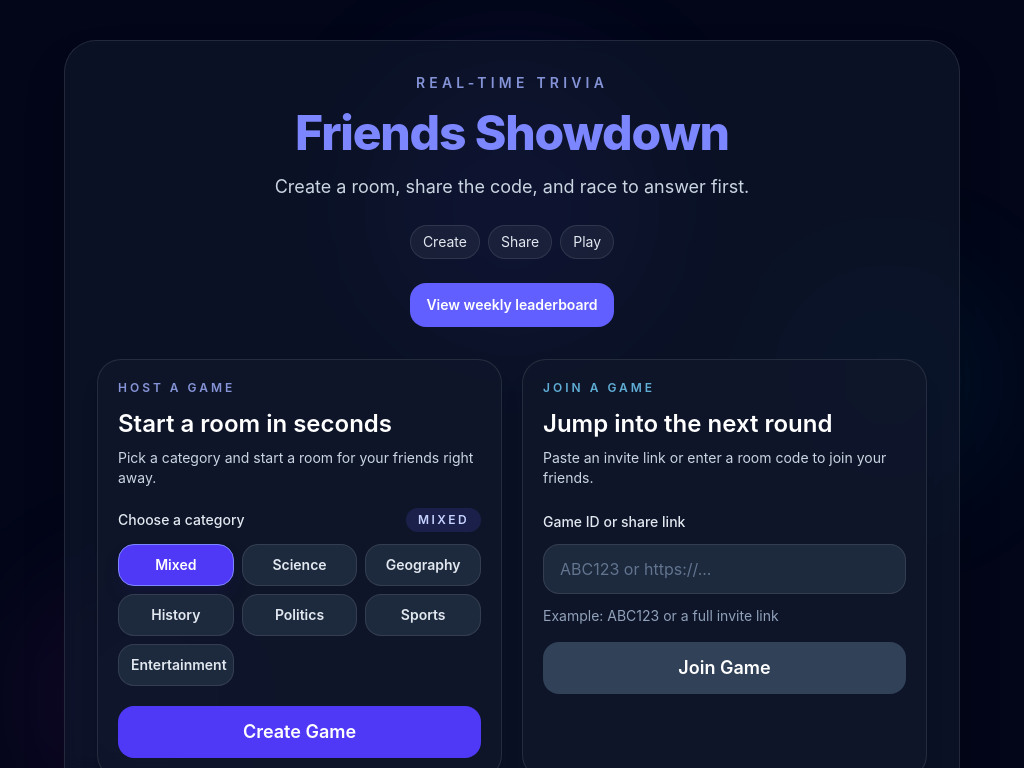
Scenario: HomeScreen › shows a validation error for invalid join input
Type "not a code" into the field labelled "Game ID or share link" at point(724, 569), box [543,544,906,594]
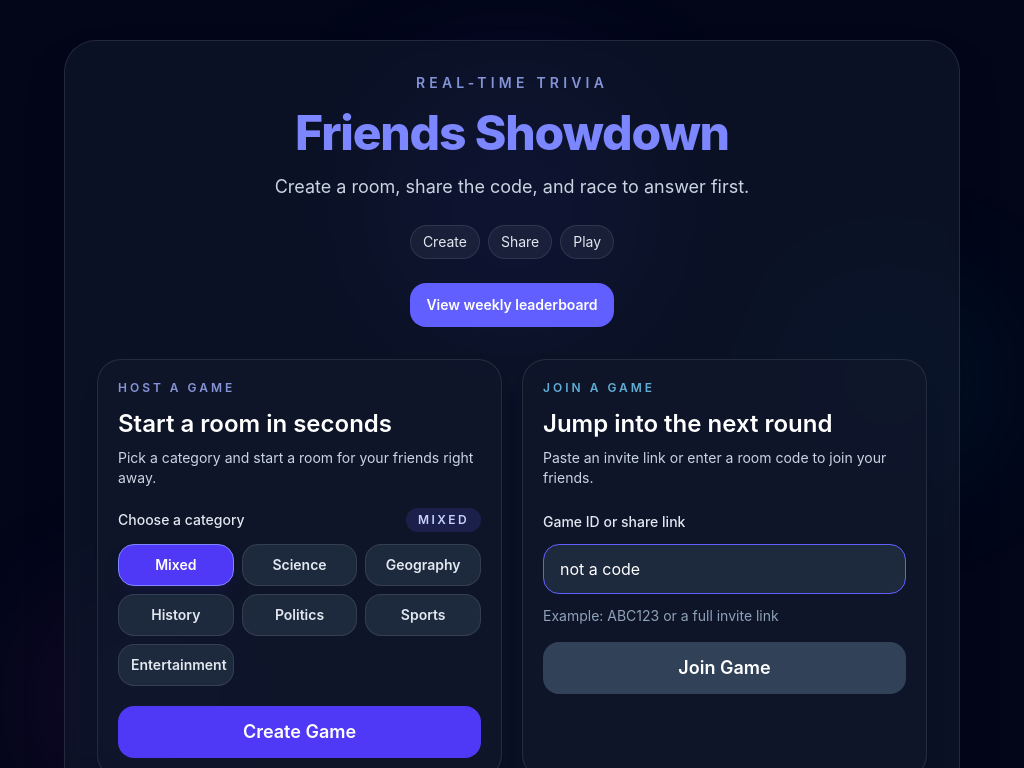
Click the button "Join Game" at point(724, 668), box [543,642,906,694]
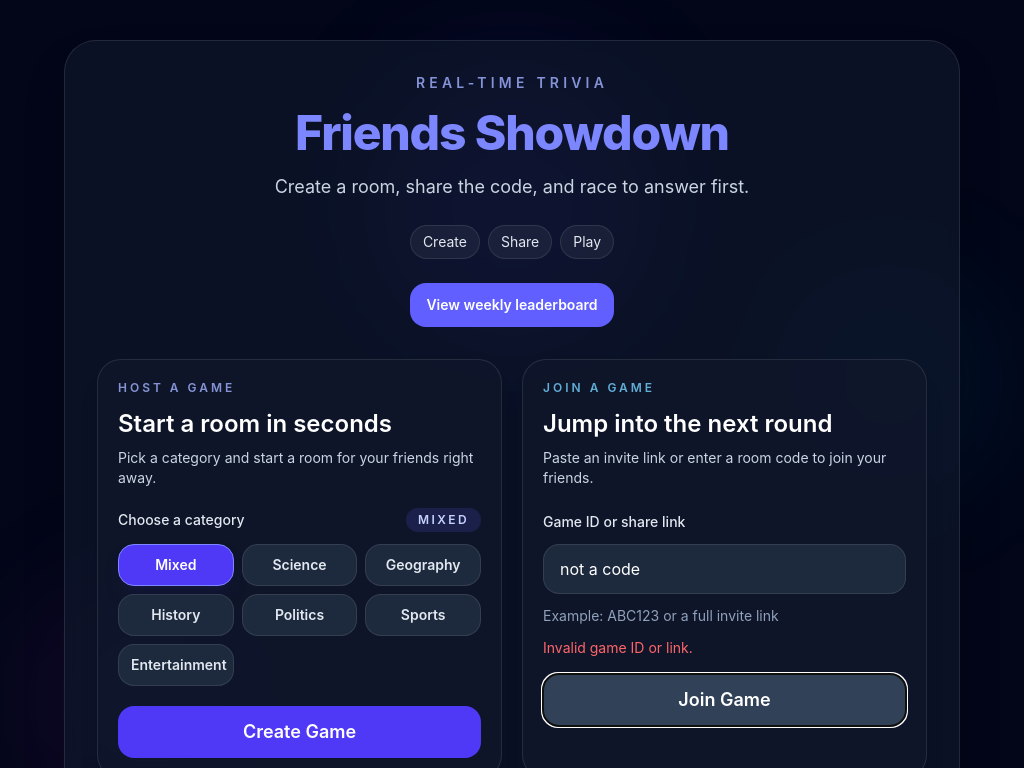
Result: the message reads "Invalid game ID or link." at [543,639,693,656]
